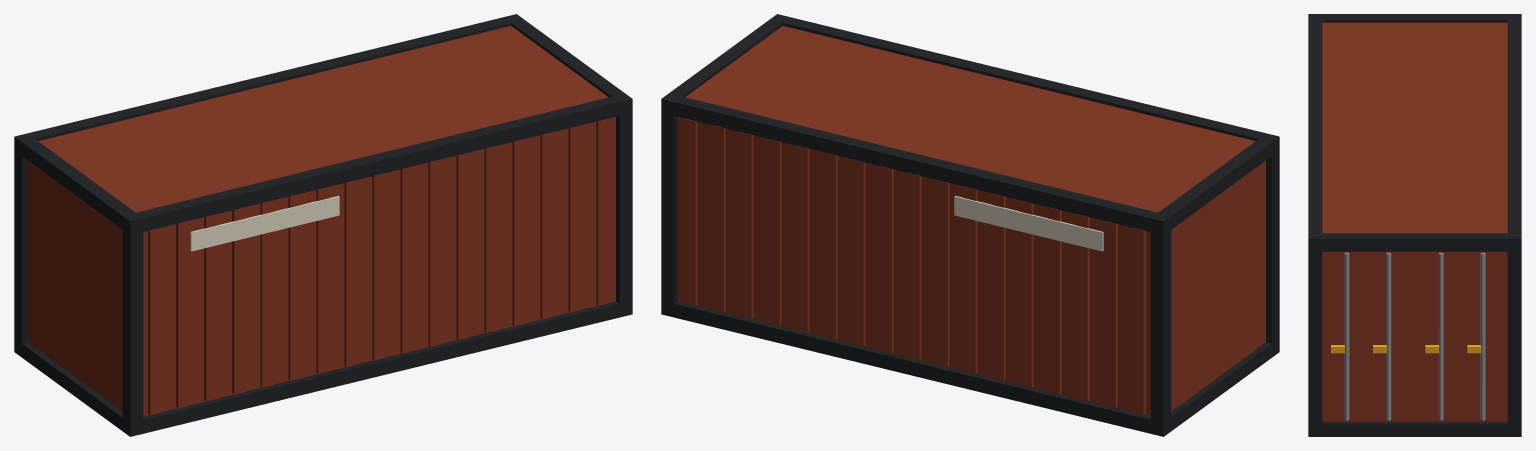
Rendered from cargo.glb.
The picture shows the model from 3 angles, left to right: view 1: azimuth 30°, elevation 25°; view 2: azimuth 150°, elevation 25°; view 3: azimuth 270°, elevation 25°; orthographic projection. The views are drawn at different scales.
Parts seen in each view (by area): view 1: cargo_mesh; view 2: cargo_mesh; view 3: cargo_mesh.
Boxes of the visible parts, x1=… form: cargo_mesh: x1=14, y1=14, x2=632, y2=436; cargo_mesh: x1=661, y1=14, x2=1279, y2=436; cargo_mesh: x1=1308, y1=14, x2=1521, y2=436.
Size of the model in its own units: 6.11 by 2.5 by 2.44.
